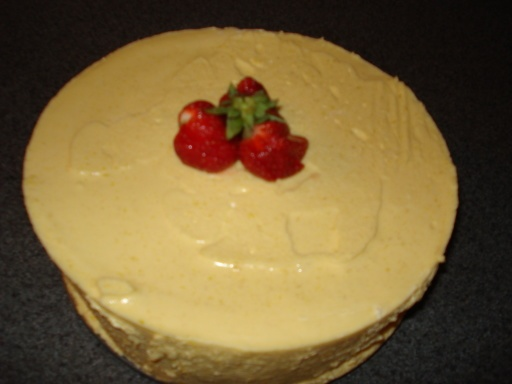background: (17, 15, 367, 230)
